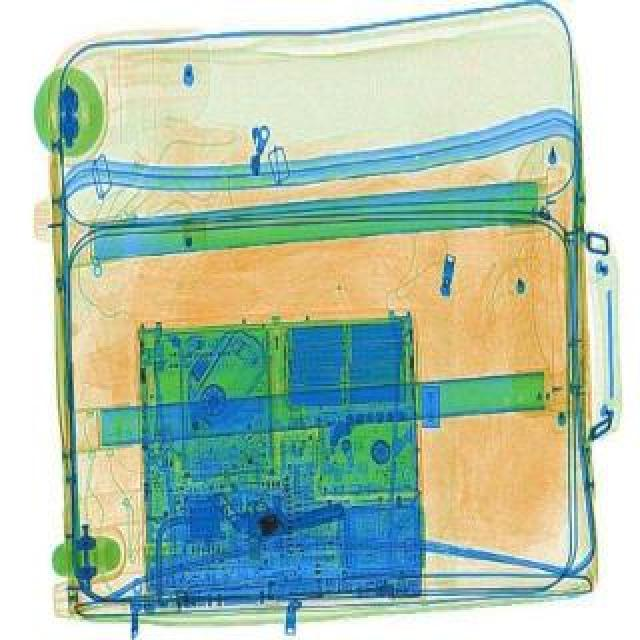gun: (208, 460, 348, 544)
